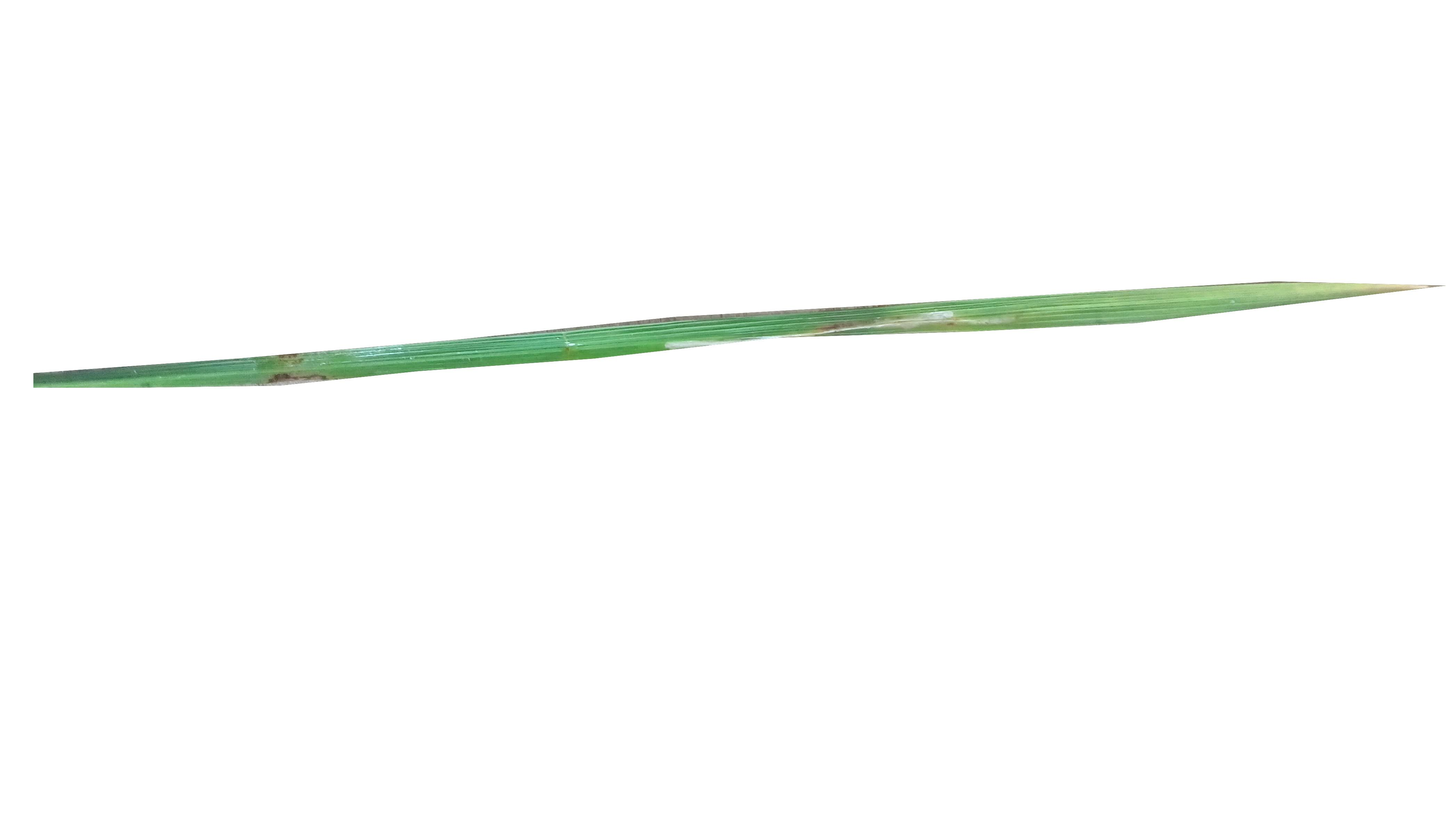Rice blast: (263, 353, 331, 386)
